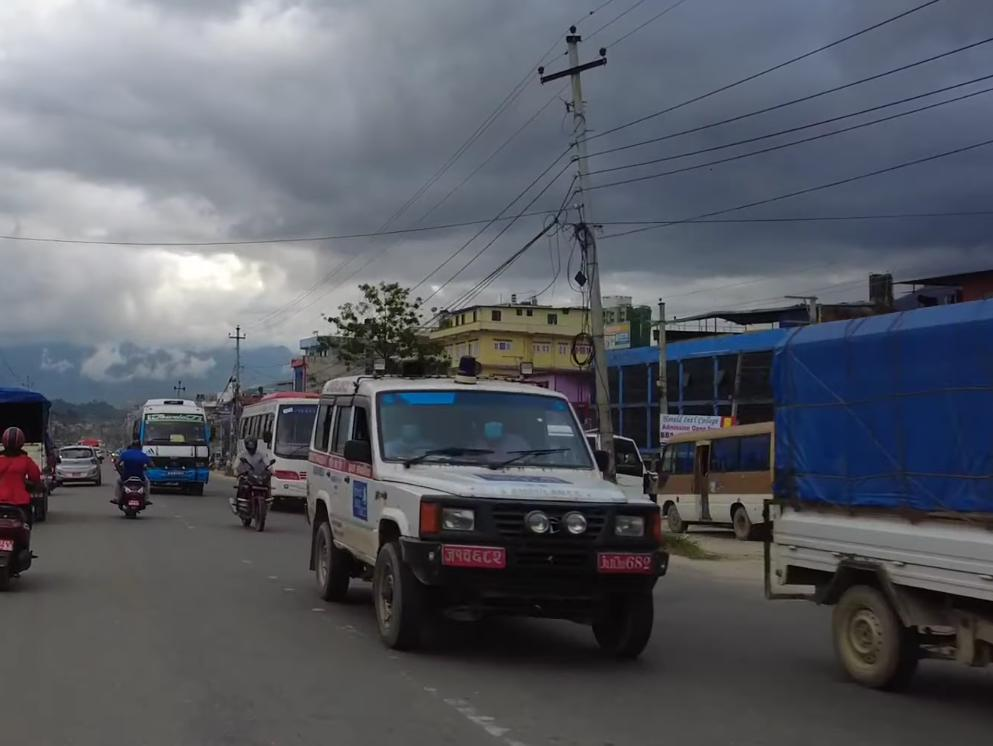ambulance: (300, 357, 679, 671)
bike: (228, 454, 279, 531)
bus: (661, 418, 791, 543), (231, 386, 346, 503), (130, 393, 215, 494)
car: (50, 439, 105, 486)
transport_vehicle: (756, 284, 993, 703), (0, 388, 54, 525)
